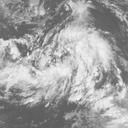cyclone: (30, 39, 100, 98)
